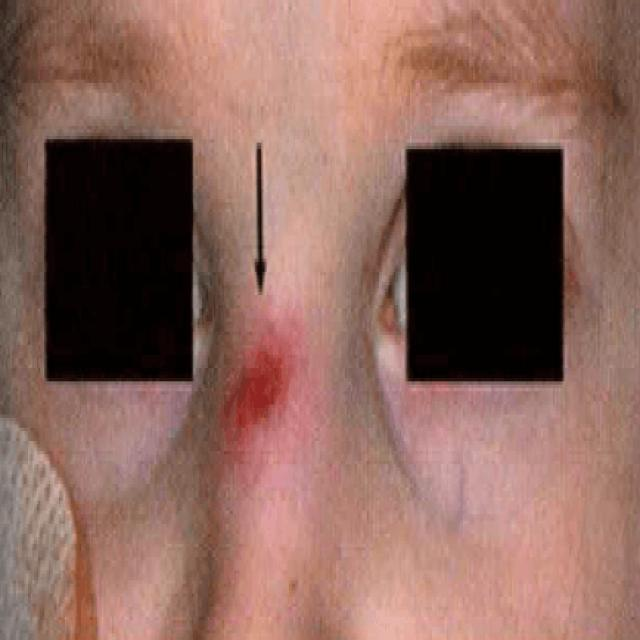stage-2: (232, 345, 279, 425)
